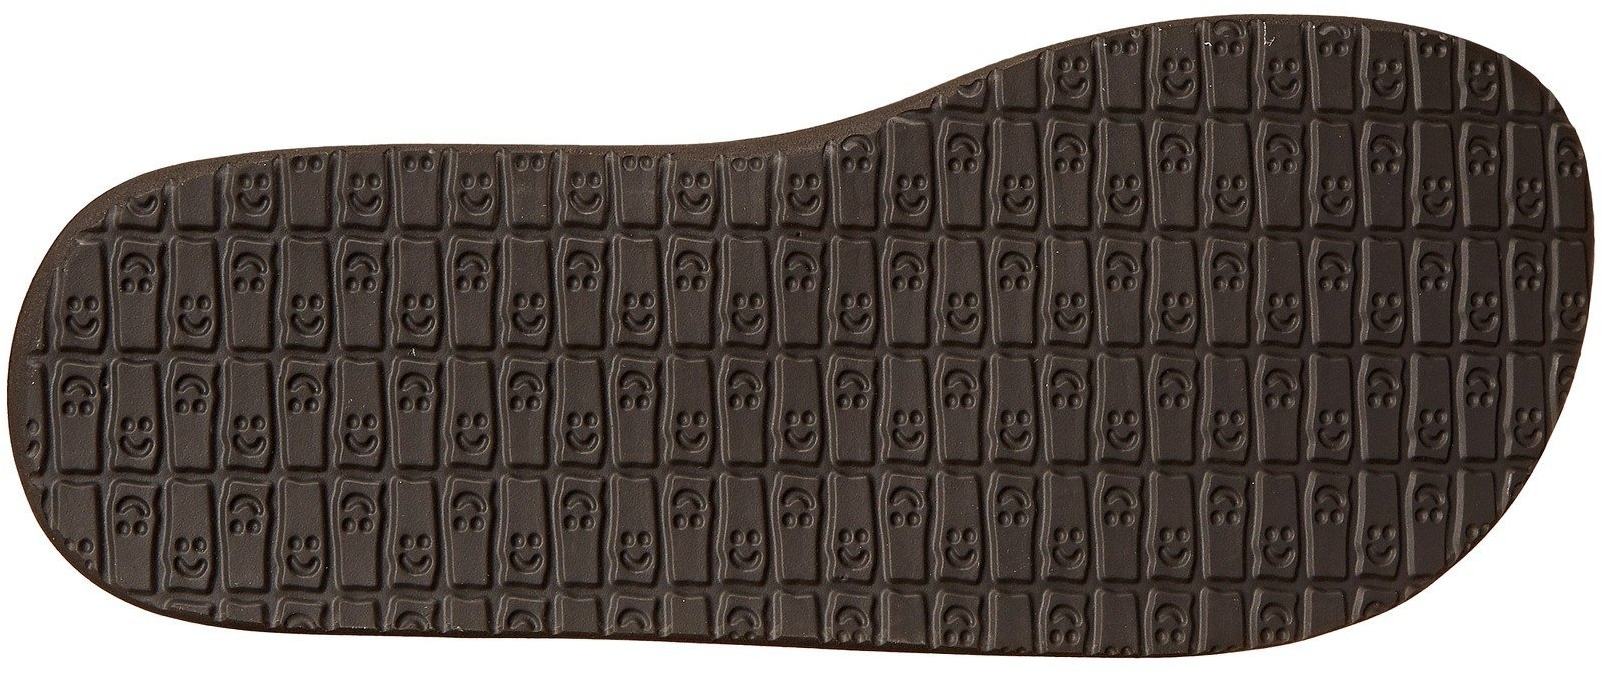quad: (640, 183, 1086, 593), (177, 191, 601, 594), (1093, 95, 1511, 486)
